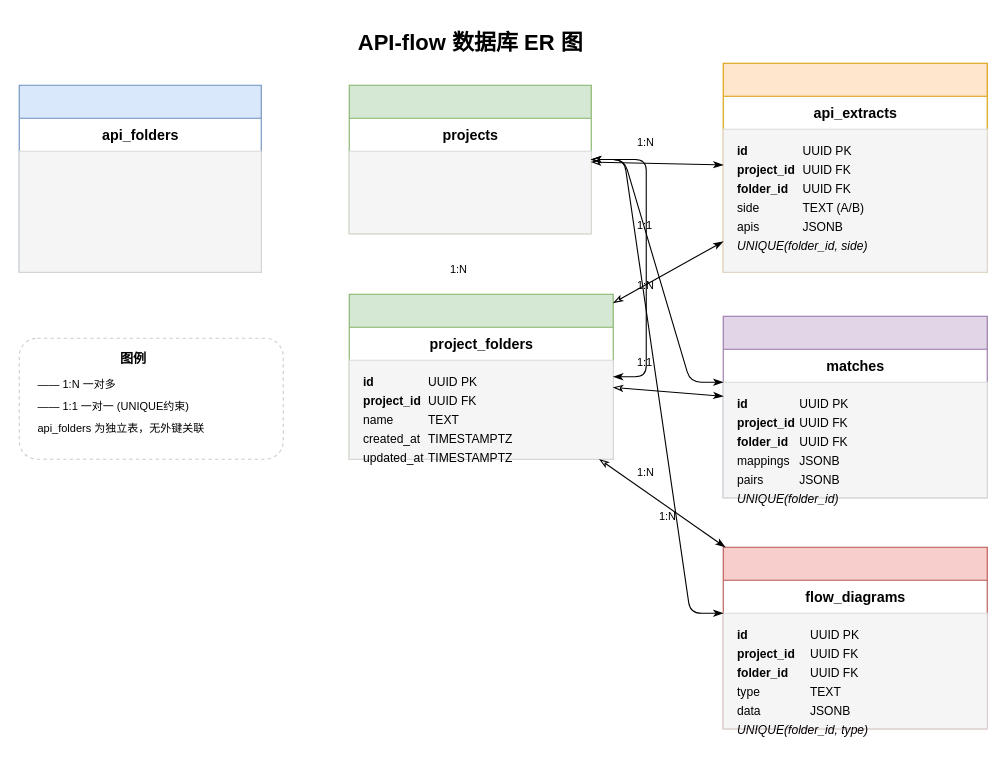
Image size: 1007x759. Some labels were removed from this diagram. Each missing label, with the centre of its shape:
"id UUID PK name TEXT apis JSONB created_at TIMESTAMPTZ updated_at TIMESTAMPTZ" goes at (x=139, y=211).
"id UUID PK name TEXT created_at TIMESTAMPTZ updated_at TIMESTAMPTZ" goes at (x=469, y=192).
